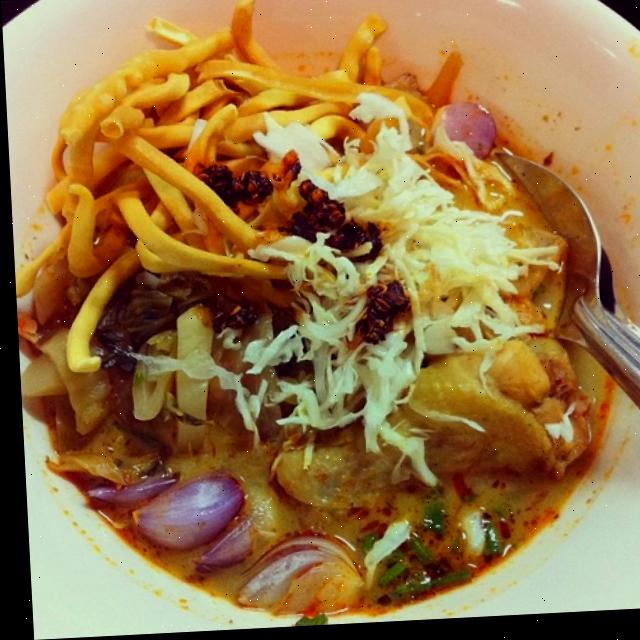面条主食: (7, 0, 640, 640)
